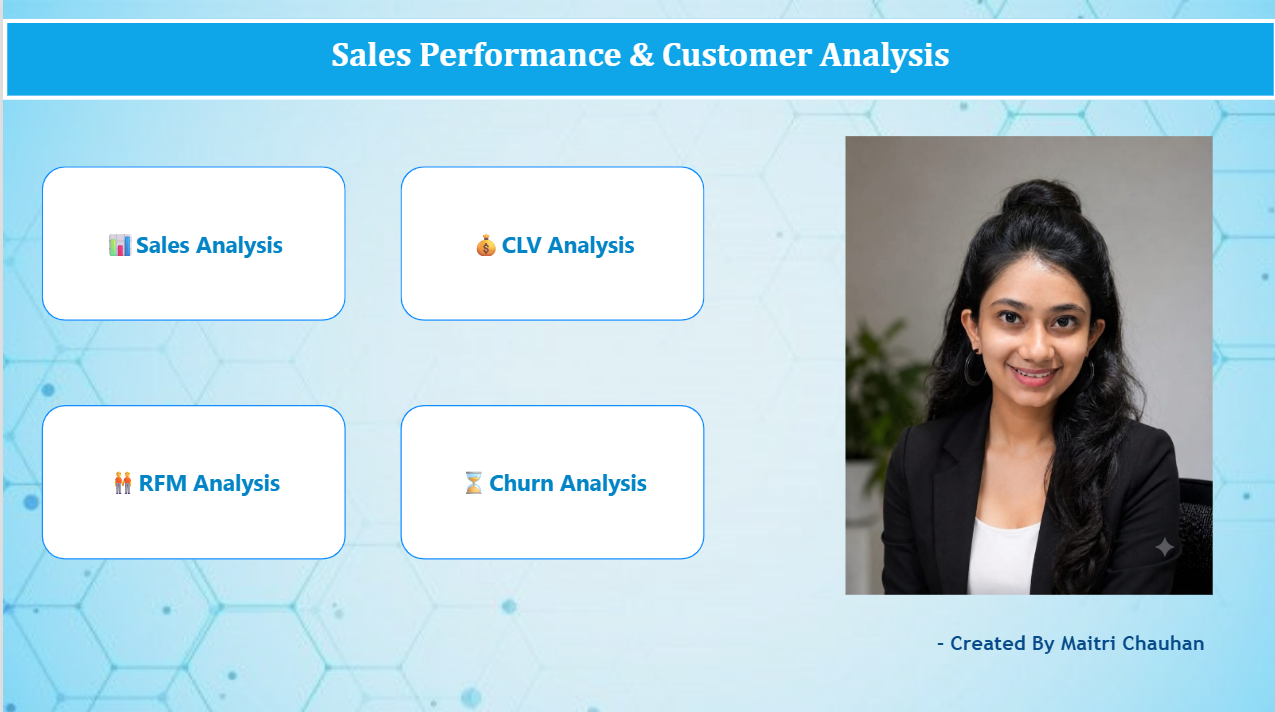

The page's visual inventory and layout, read from the dashboard file:
{"tool":"powerbi","page":{"name":"Index","canvas":[3000,1700],"ordinal":0},"visuals":[{"type":"shape","box":[0,45.5,3000,190.9],"z":0},{"type":"actionButton","title":"Sa","box":[90.9,390.9,715.2,363.6],"z":1000},{"type":"actionButton","title":"Sa","box":[90.9,951.5,715.2,363.6],"z":2000},{"type":"actionButton","title":"Sa","box":[936.4,390.9,715.2,363.6],"z":3000},{"type":"actionButton","title":"Sa","box":[936.4,951.5,715.2,363.6],"z":4000},{"type":"textbox","box":[0,78.8,3000,151.5],"z":5000},{"type":"image","box":[1981.8,315.2,863.6,1090.9],"z":6000},{"type":"textbox","box":[2181.8,1484.8,663.6,75.8],"z":7000}]}

Visuals, with their boxes in screenshot pixels (x1, y1, x2, y2), scaled from the page's 3000x1700 canvas onto the 1275x712 screenshot:
shape: [0, 19, 1274, 99]
"Sa" actionButton: [39, 164, 343, 316]
"Sa" actionButton: [39, 399, 343, 551]
"Sa" actionButton: [398, 164, 702, 316]
"Sa" actionButton: [398, 399, 702, 551]
textbox: [0, 33, 1274, 96]
image: [842, 132, 1209, 589]
textbox: [927, 622, 1209, 654]
